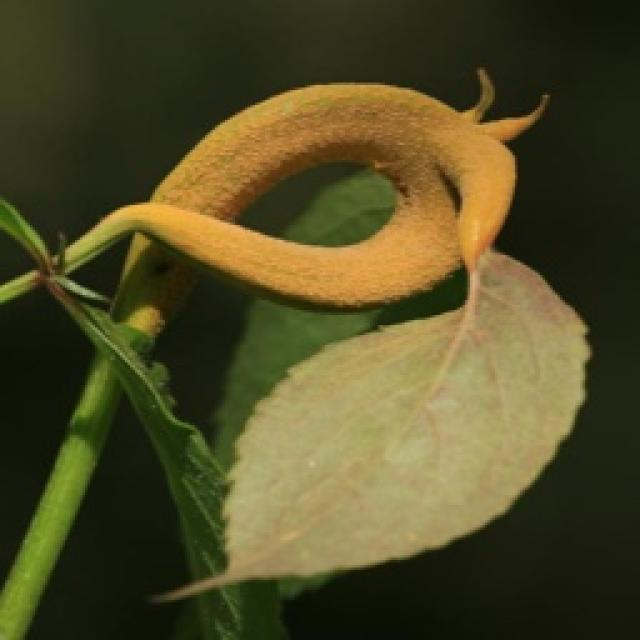Elderberry_rust: (137, 40, 529, 300)
